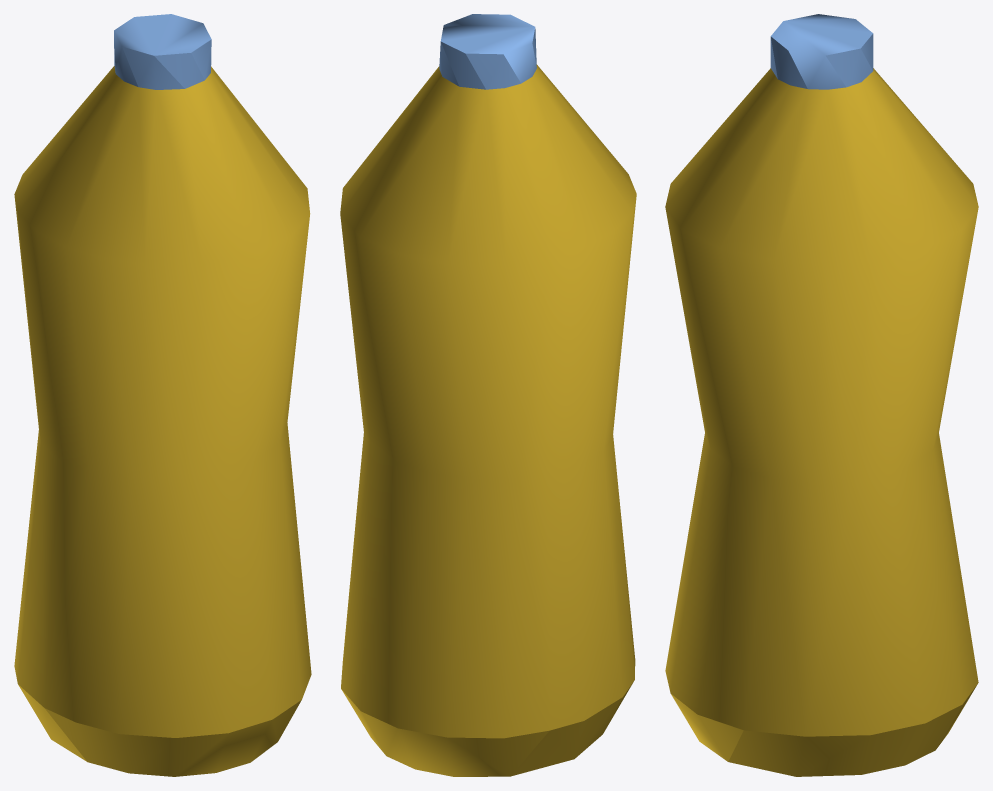
Rendered from Sunflower_Oil_Bottle_Filled.fbx.
3 renders of one model, left to right at view 1: azimuth 30°, elevation 25°; view 2: azimuth 150°, elevation 25°; view 3: azimuth 270°, elevation 25°, orthographic.
Visible parts, largest first — view 1: Gevulde Fles; view 2: Gevulde Fles; view 3: Gevulde Fles.
Boxes of the visible parts, x1,y1,x2,y2 form: Gevulde Fles: (14, 14, 311, 776); Gevulde Fles: (340, 14, 636, 776); Gevulde Fles: (665, 14, 978, 776).
Size of the model in its own units: 57.98 by 151 by 61.89.
